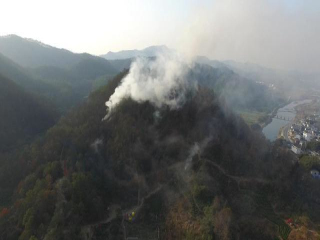smoke: (98, 15, 262, 126)
